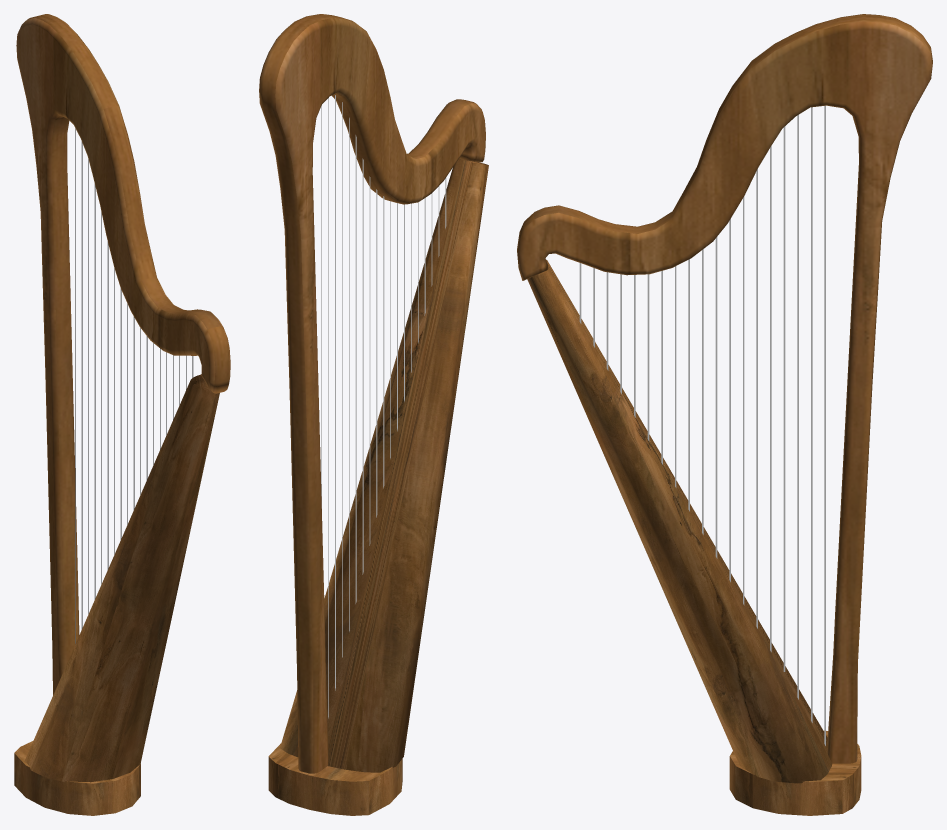
File: harp.glb
3 views of the same model, side by side, from view 1: azimuth 30°, elevation 25°; view 2: azimuth 150°, elevation 25°; view 3: azimuth 270°, elevation 25° (orthographic). The views are drawn at different scales.
Visible parts, largest first — view 1: harp, harp_strings, Cylinder.001; view 2: harp, harp_strings, Cylinder.001; view 3: harp, harp_strings, Cylinder.001.
Part boxes in pixels (box(x1,y1,x2,y2)): harp: box(16, 14, 230, 782); harp_strings: box(75, 128, 193, 643); Cylinder.001: box(14, 741, 140, 815); harp: box(259, 14, 488, 773); harp_strings: box(321, 95, 446, 718); Cylinder.001: box(268, 743, 402, 815); harp: box(517, 14, 932, 783); harp_strings: box(579, 105, 825, 745); Cylinder.001: box(729, 731, 861, 815).
Size of the model in its own units: 0.2848 by 1.97 by 0.9554.
Materials: 2 (1 with a texture image).
